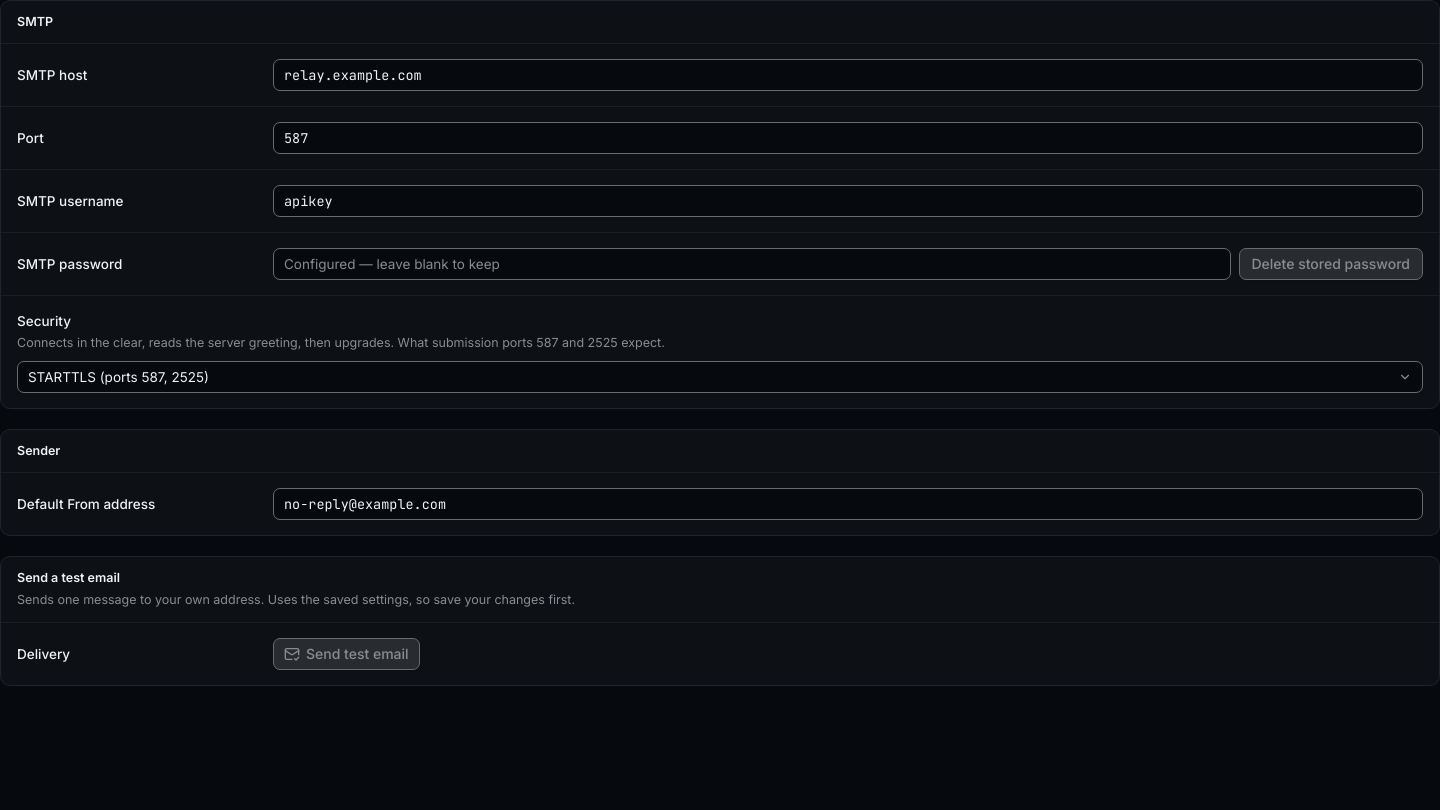
it: Email settings — test send › confirms delivery and names the address it reached
Click the button "Send test email".
click(346, 654)  # box 273,638 -> 420,670
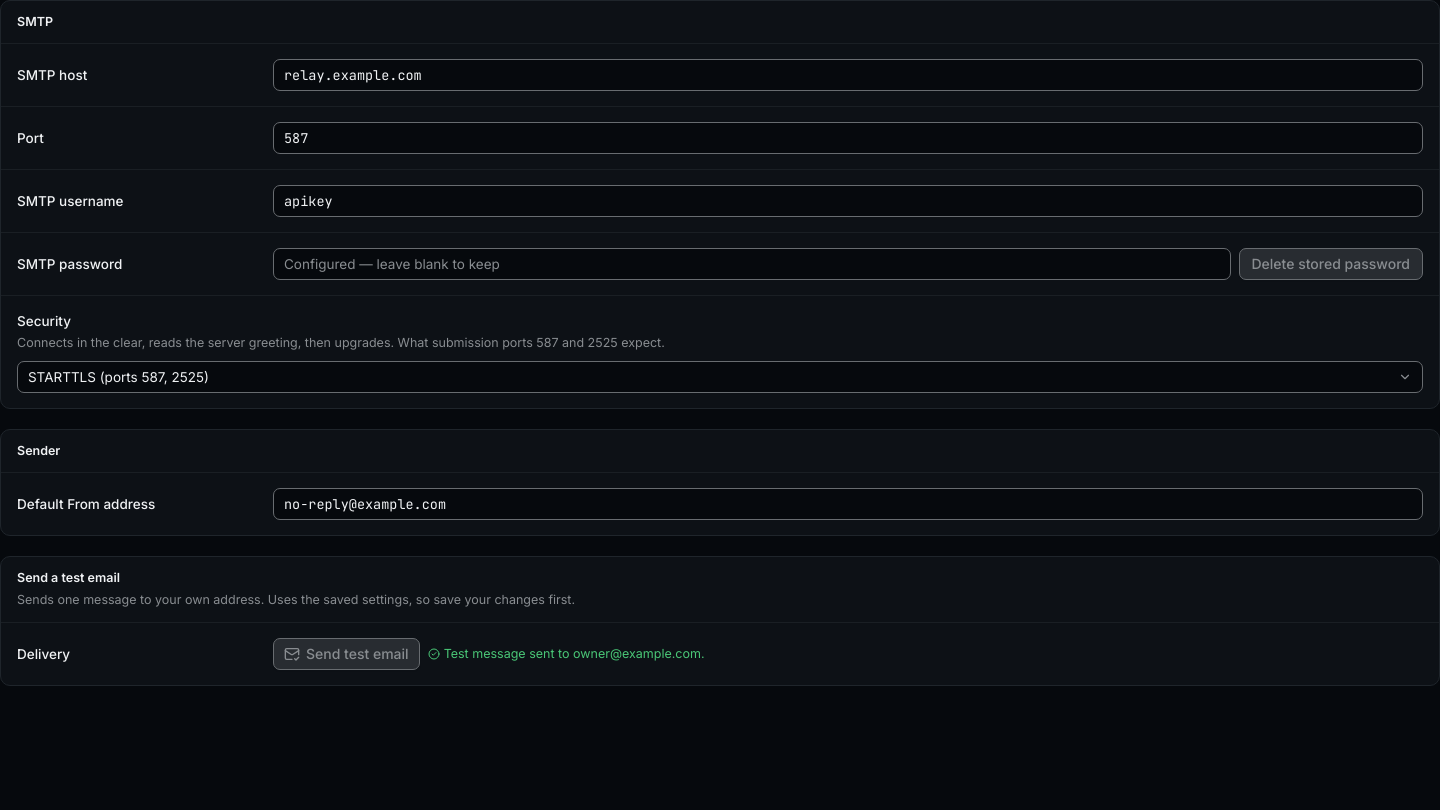
Expected: the text "Test message sent to owner@example.com." is shown, 428,645 -> 704,663
